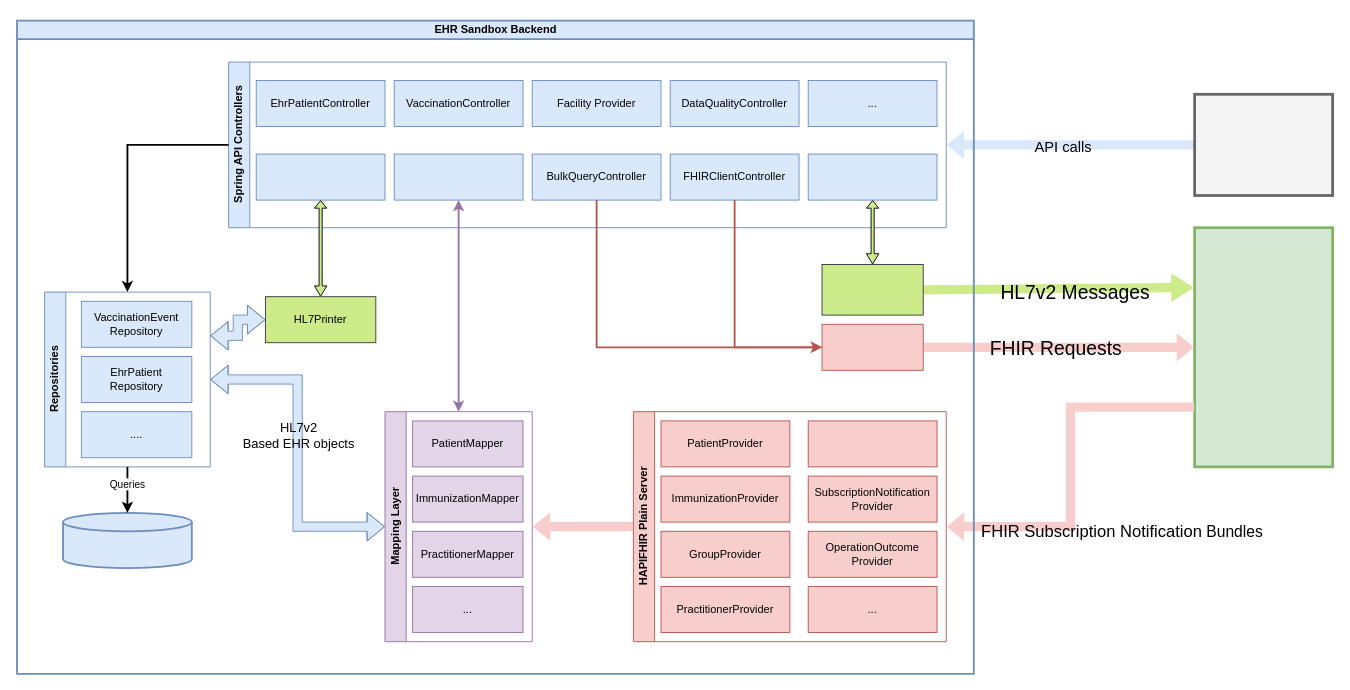
Image size: 1350x690. Some labels were removed from this diagram. Each missing label, with the centre of its shape:
BundleProvider: pixel 872 443
EHR Persistence database: pixel 127 540
FHIR Client: pixel 872 346
FHIRConverter: pixel 458 176
HL7 SOAP Client: pixel 872 289
HL7ClientController: pixel 872 176
Hl7Converter: pixel 320 176
Http Client /Angular Client: pixel 1263 144
IIS / IIS- Sandbox: pixel 1263 347
